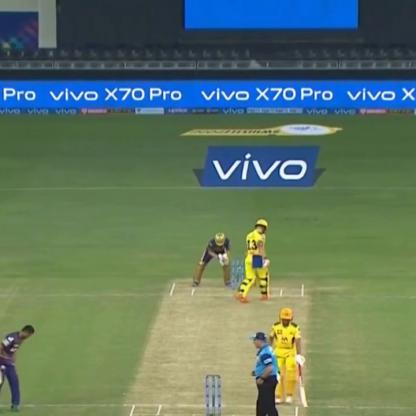pitch: (126, 271, 308, 415)
